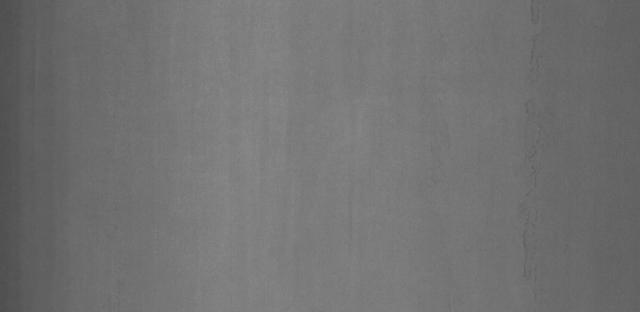silk_spot: (507, 14, 583, 278)
